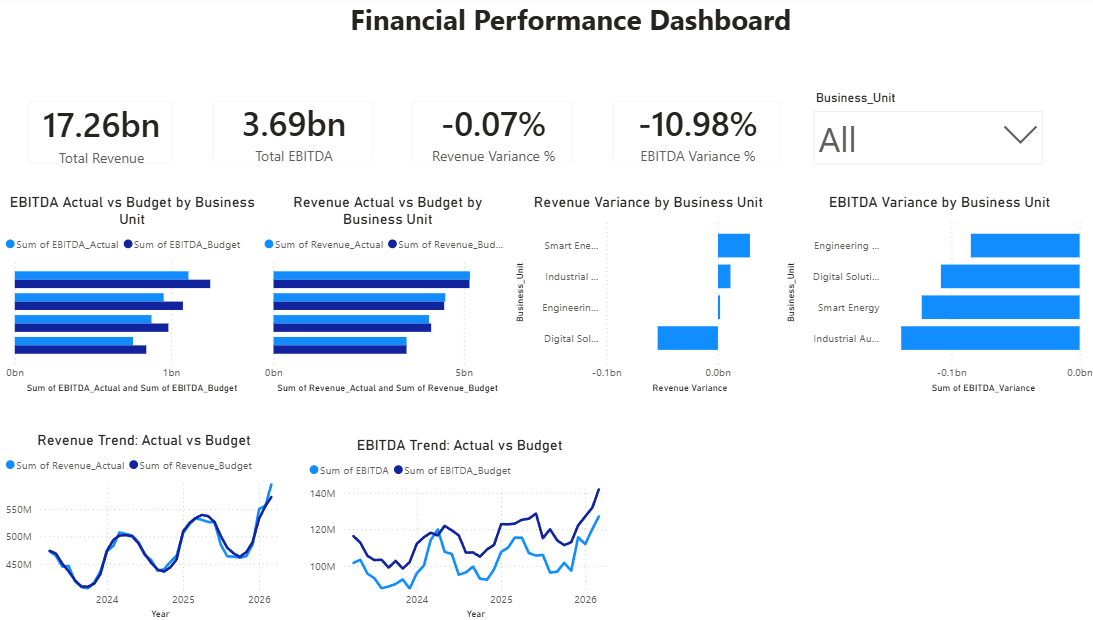

This screenshot's page, from the dashboard's own definition file:
{"tool":"powerbi","page":{"name":"Page 1","canvas":[1280,720],"ordinal":0},"visuals":[{"type":"cardVisual","fields":{"Data":["EBITDA_Analysis.Total Revenue"]},"box":[37.3,103.2,200.7,107.5],"z":0},{"type":"cardVisual","fields":{"Data":["EBITDA_Analysis.Total EBITDA"]},"box":[248.7,103.2,217.9,104.7],"z":1000},{"type":"cardVisual","fields":{"Data":["EBITDA_Analysis.Revenue Variance %"]},"box":[477.4,103.2,219.4,104.7],"z":2000},{"type":"cardVisual","fields":{"Data":["EBITDA_Analysis.EBITDA Variance %"]},"box":[708.2,103.2,226.5,104.7],"z":3000},{"type":"clusteredBarChart","title":"EBITDA Actual vs Budget by Business Unit","fields":{"Y":["Sum(EBITDA_Analysis.EBITDA_Actual)","Sum(EBITDA_Analysis.EBITDA_Budget)"],"Category":["EBITDA_Analysis.Business_Unit"]},"box":[22.9,226.5,301.1,233.7],"z":4000},{"type":"clusteredBarChart","title":"Revenue Actual vs Budget by Business Unit","fields":{"Y":["Sum(Financial_Data.Revenue_Actual)","Sum(Financial_Data.Revenue_Budget)"],"Category":["Financial_Data.Business_Unit"]},"box":[319.2,226.5,293.9,233.7],"z":5000},{"type":"clusteredBarChart","title":"Revenue Variance by Business Unit","fields":{"Y":["EBITDA_Analysis.Revenue Variance"],"Category":["EBITDA_Analysis.Business_Unit"]},"box":[608.4,226.5,315.4,233.7],"z":6000},{"type":"clusteredBarChart","title":"EBITDA Variance by Business Unit","fields":{"Y":["Sum(EBITDA_Analysis.EBITDA_Variance)"],"Category":["EBITDA_Analysis.Business_Unit"]},"box":[918.7,226.5,361.3,233.7],"z":7000},{"type":"lineChart","title":"Revenue Trend: Actual vs Budget","fields":{"Y":["Sum(Financial_Data.Revenue_Actual)","Sum(Financial_Data.Revenue_Budget)"],"Category":["Financial_Data.Date.Variation.Date Hierarchy.Year","Financial_Data.Date.Variation.Date Hierarchy.Month"]},"box":[22.9,498.9,328.3,220.8],"z":8000},{"type":"lineChart","title":"EBITDA Trend: Actual vs Budget","fields":{"Y":["Sum(Monthly_Performance.EBITDA)","Sum(Monthly_Performance.EBITDA_Budget)"],"Category":["Monthly_Performance.Date.Variation.Date Hierarchy.Year","Monthly_Performance.Date.Variation.Date Hierarchy.Month"]},"box":[371.3,504.7,355.6,215.1],"z":9000},{"type":"slicer","fields":{"Values":["EBITDA_Analysis.Business_Unit"]},"box":[944.8,103.2,282.4,90.3],"z":10000},{"type":"textbox","box":[727,505,206,215],"z":11000},{"type":"textbox","box":[418.6,0,543.4,68.8],"z":12000}]}

Visuals, with their boxes in screenshot pixels (x1, y1, x2, y2), scaled from the page's 1280x720 canvas onto the 1093x620 screenshot:
cardVisual - EBITDA_Analysis.Total Revenue: (left=32, top=89, right=203, bottom=181)
cardVisual - EBITDA_Analysis.Total EBITDA: (left=212, top=89, right=398, bottom=179)
cardVisual - EBITDA_Analysis.Revenue Variance %: (left=408, top=89, right=595, bottom=179)
cardVisual - EBITDA_Analysis.EBITDA Variance %: (left=605, top=89, right=798, bottom=179)
"EBITDA Actual vs Budget by Business Unit" clusteredBarChart: (left=20, top=195, right=277, bottom=396)
"Revenue Actual vs Budget by Business Unit" clusteredBarChart: (left=273, top=195, right=524, bottom=396)
"Revenue Variance by Business Unit" clusteredBarChart: (left=520, top=195, right=789, bottom=396)
"EBITDA Variance by Business Unit" clusteredBarChart: (left=784, top=195, right=1092, bottom=396)
"Revenue Trend: Actual vs Budget" lineChart: (left=20, top=430, right=300, bottom=619)
"EBITDA Trend: Actual vs Budget" lineChart: (left=317, top=435, right=621, bottom=619)
slicer - EBITDA_Analysis.Business_Unit: (left=807, top=89, right=1048, bottom=167)
textbox: (left=621, top=435, right=797, bottom=619)
textbox: (left=357, top=0, right=821, bottom=59)
